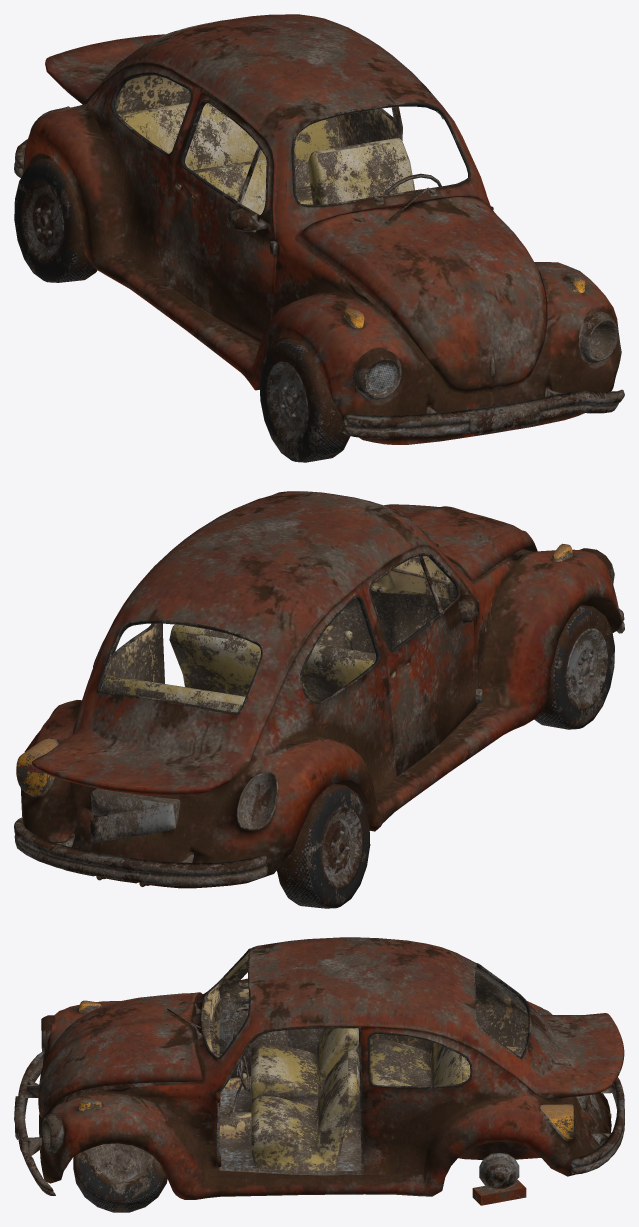
File: inferruj.glb
3 renders of one model, top to bottom at view 1: azimuth 30°, elevation 25°; view 2: azimuth 150°, elevation 25°; view 3: azimuth 270°, elevation 25°, orthographic. The views are drawn at different scales.
Size of the model in its own units: 2.14 by 1.67 by 4.56.
Materials: 10 (10 with a texture image).
